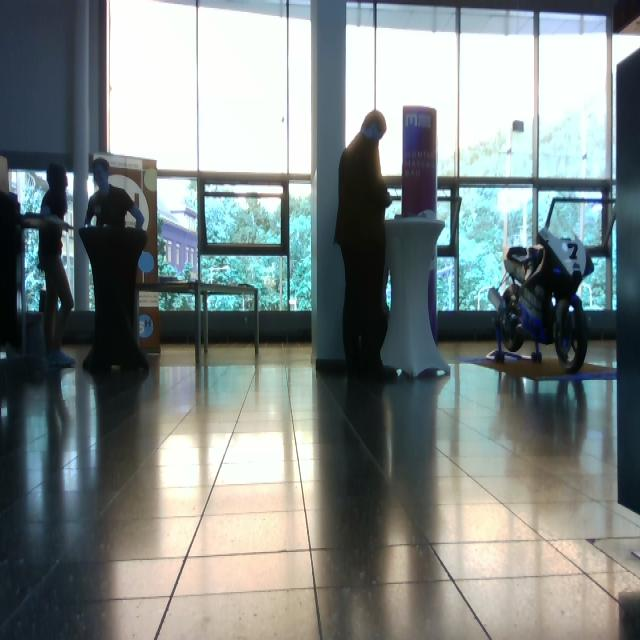light bulb: (488, 288, 506, 313), (138, 252, 155, 274), (513, 120, 524, 133)
motorcycle: (486, 197, 595, 376)
person: (334, 111, 400, 383), (82, 158, 150, 373), (34, 162, 76, 368)
table: (379, 213, 453, 384), (198, 280, 263, 362)
tiled floor: (2, 337, 639, 638)
